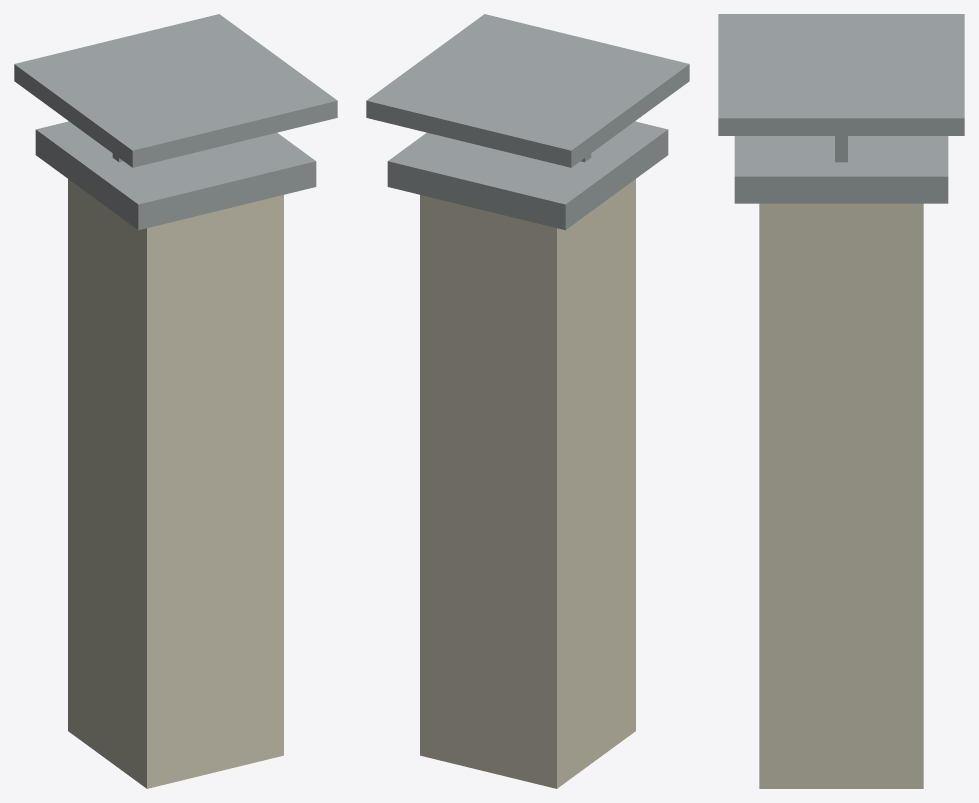
File: bunker-shelter-construction-air-intake-stack-5abd544e__23314.glb
The picture shows the model from 3 angles, left to right: view 1: azimuth 30°, elevation 25°; view 2: azimuth 150°, elevation 25°; view 3: azimuth 270°, elevation 25°; orthographic projection. The views are drawn at different scales.
Parts seen in each view (by area): view 1: air-intake-stack; view 2: air-intake-stack; view 3: air-intake-stack.
Boxes of the visible parts, x1=… form: air-intake-stack: x1=14, y1=14, x2=337, y2=788; air-intake-stack: x1=366, y1=14, x2=689, y2=788; air-intake-stack: x1=718, y1=14, x2=964, y2=788.
Bounding box in the file's own units: 0.75 × 2.31 × 0.75.
